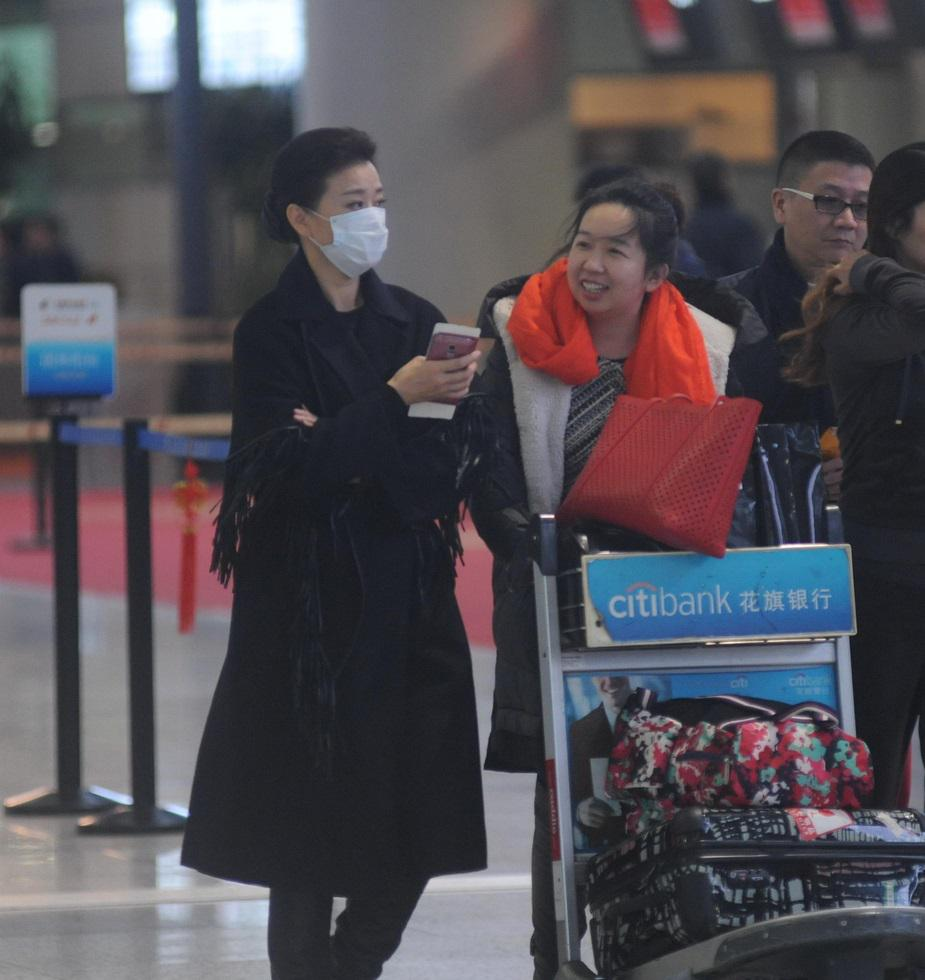NONE: (783, 176, 875, 265), (567, 229, 650, 314)
OK: (323, 171, 395, 270)
